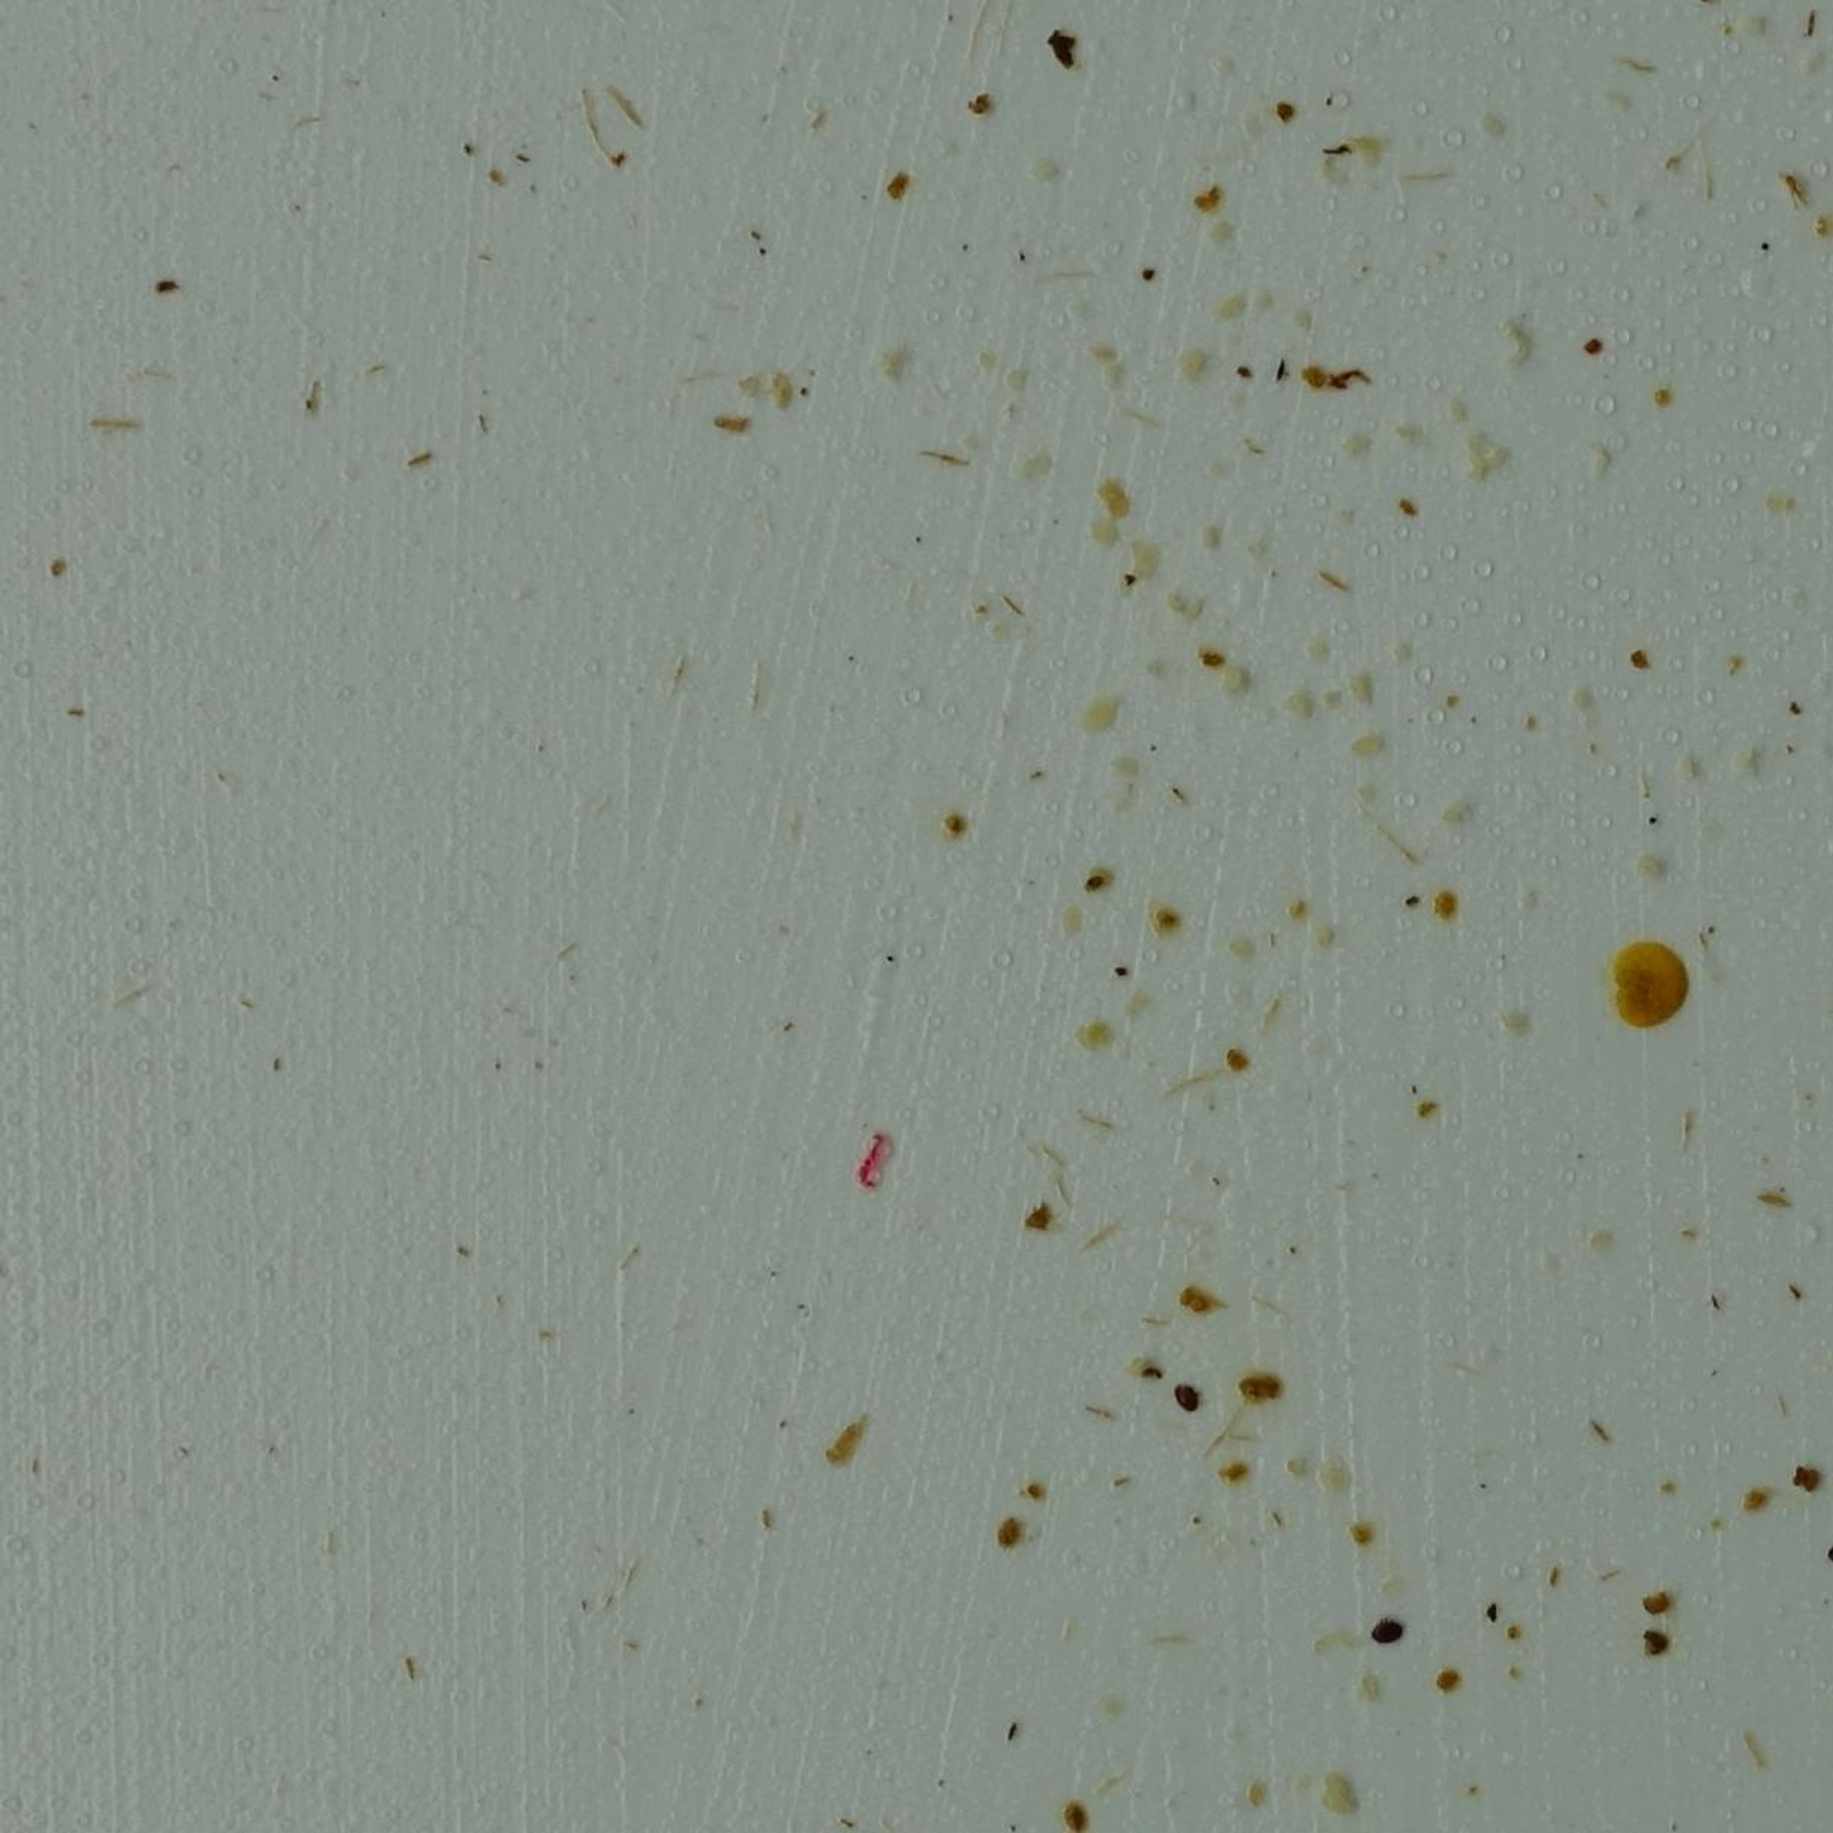Varroa: (1370, 1615, 1398, 1643), (1173, 1386, 1197, 1412)
